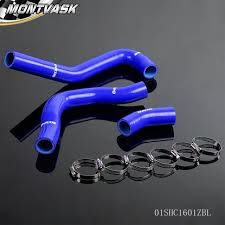radiator_hose: (37, 82, 146, 151), (5, 49, 157, 81)
